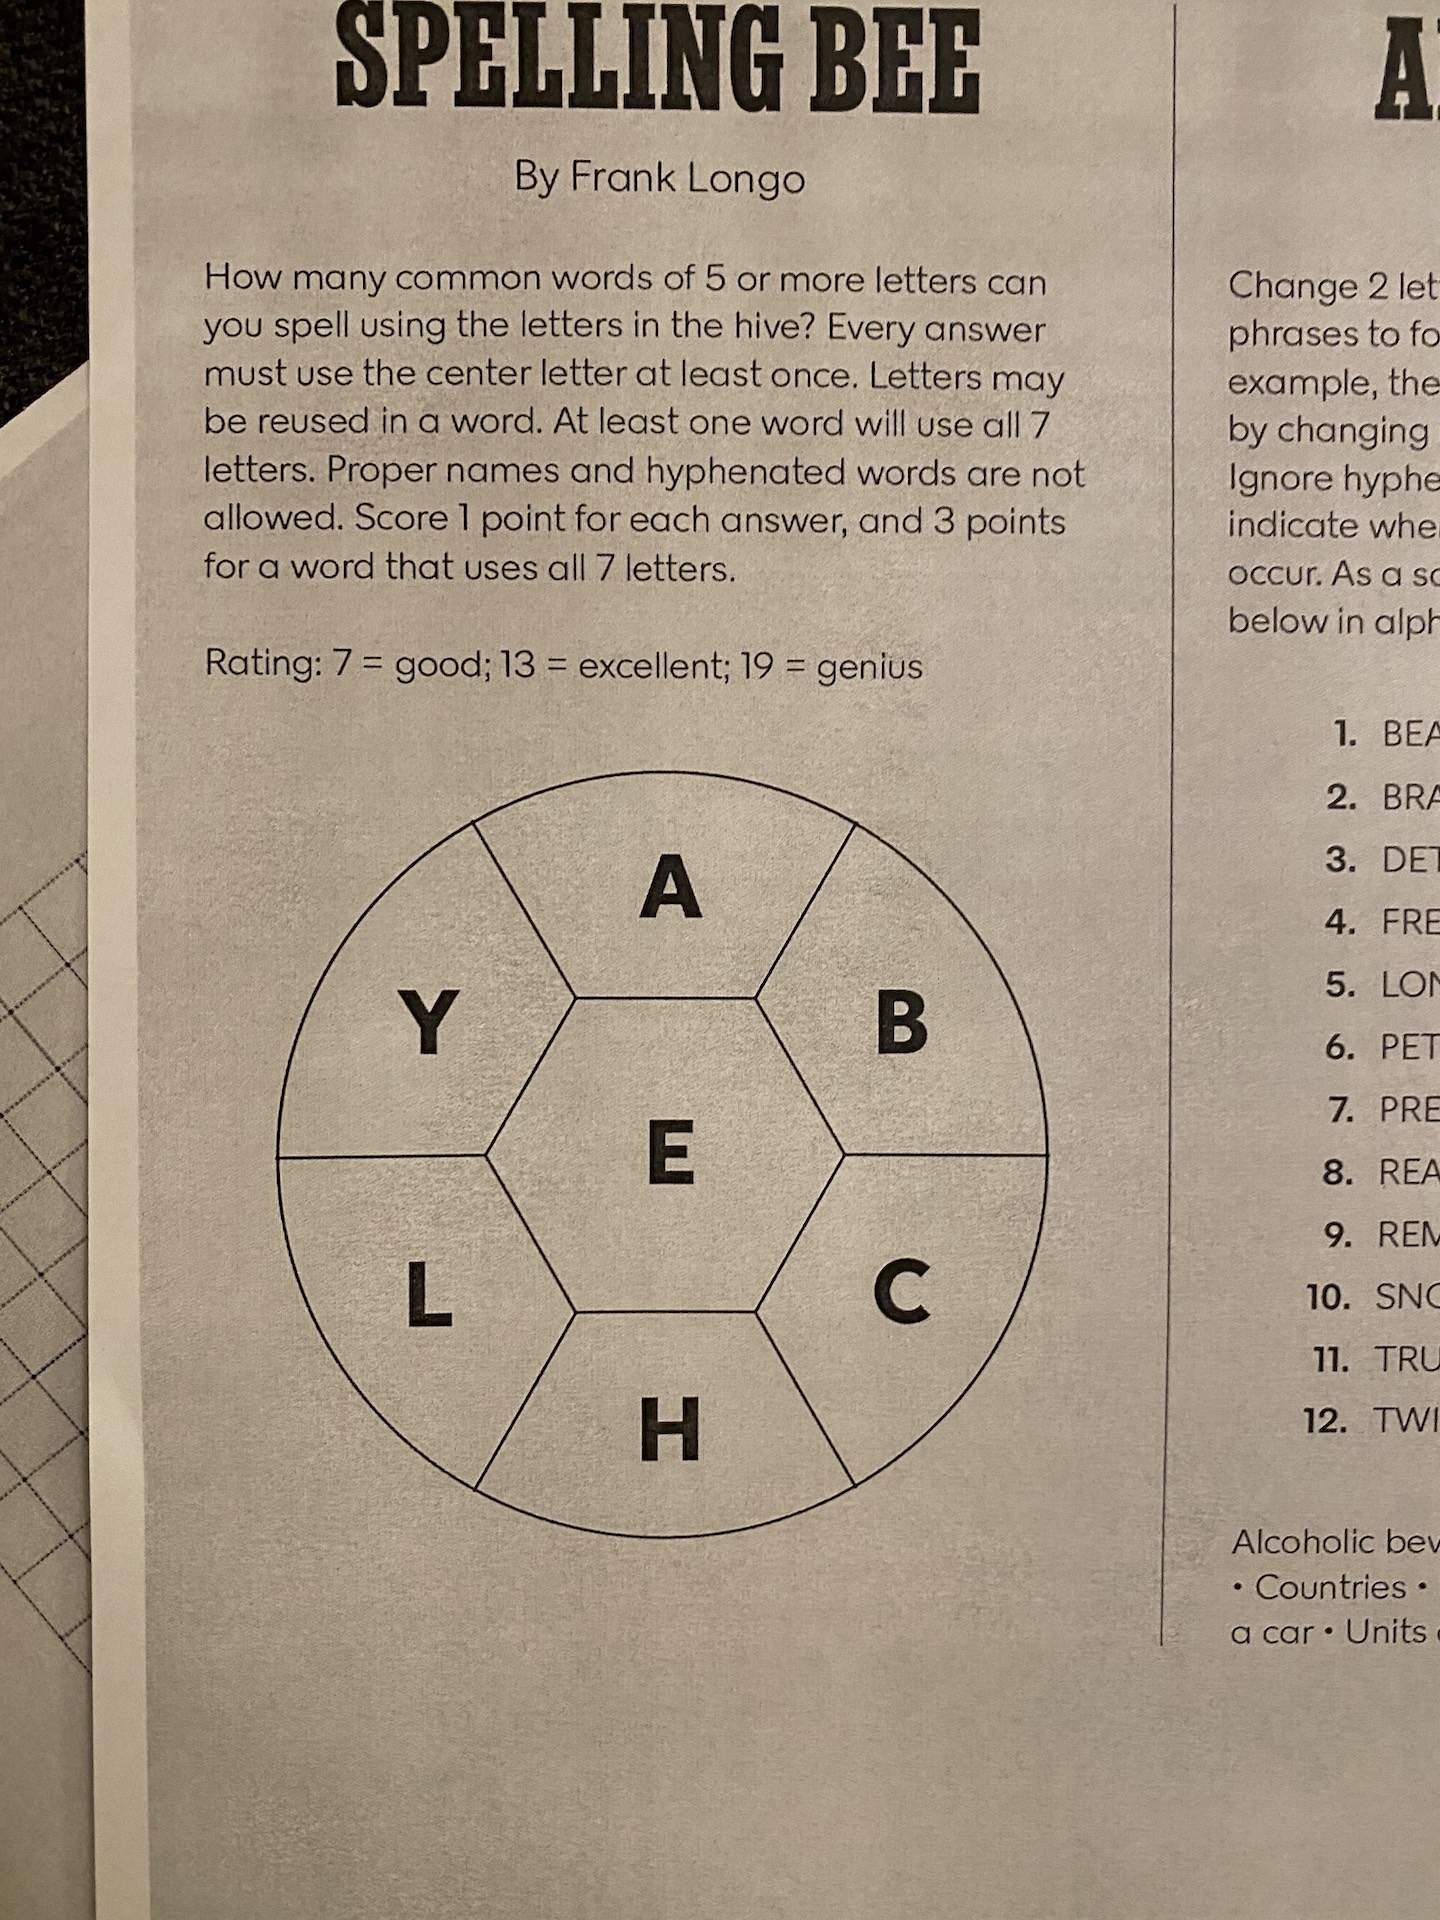Board: (248, 751, 1069, 1557)
